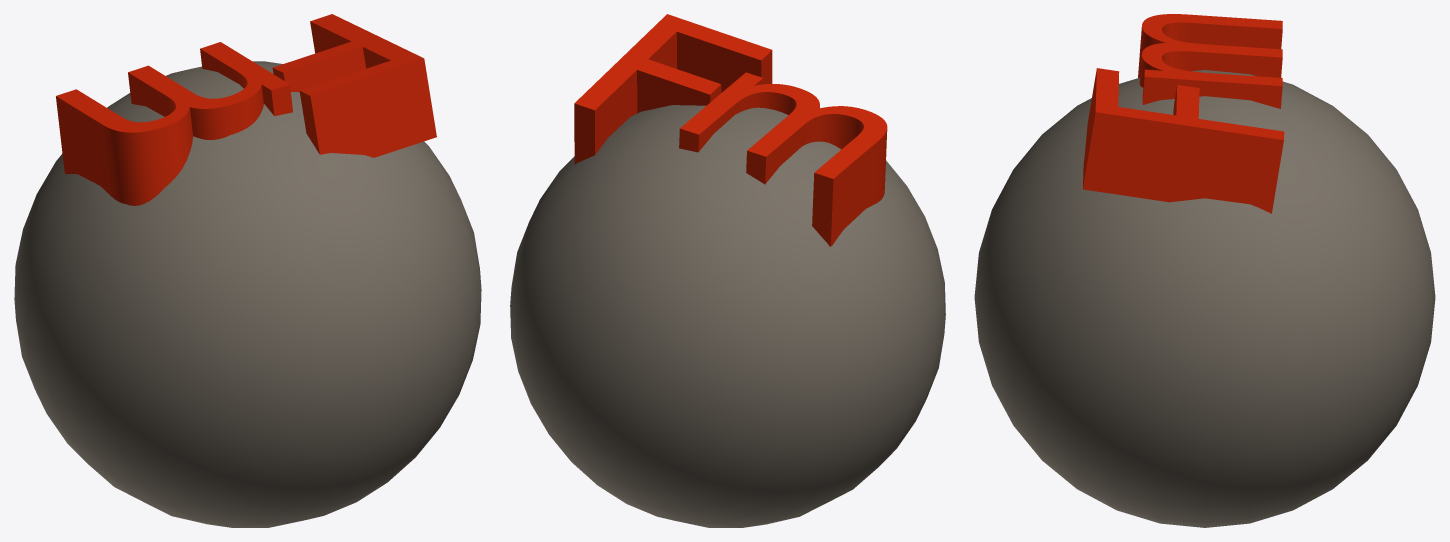
3 views of the same model, side by side, from view 1: azimuth 30°, elevation 25°; view 2: azimuth 150°, elevation 25°; view 3: azimuth 270°, elevation 25° (orthographic). The views are drawn at different scales.
Visible parts, largest first — view 1: U002, Object012, Object013; view 2: U002, Object012, Object013; view 3: U002, Object013, Object012.
Part boxes in pixels (<box>): U002: <box>14,61,481,527</box>; Object012: <box>56,42,292,205</box>; Object013: <box>272,14,436,157</box>; U002: <box>510,105,945,527</box>; Object012: <box>679,72,887,246</box>; Object013: <box>574,14,772,164</box>; U002: <box>974,70,1435,527</box>; Object013: <box>1083,68,1284,213</box>; Object012: <box>1138,14,1282,108</box>.
Bounding box in the file's own units: 38.67 × 41.9 × 38.75.
